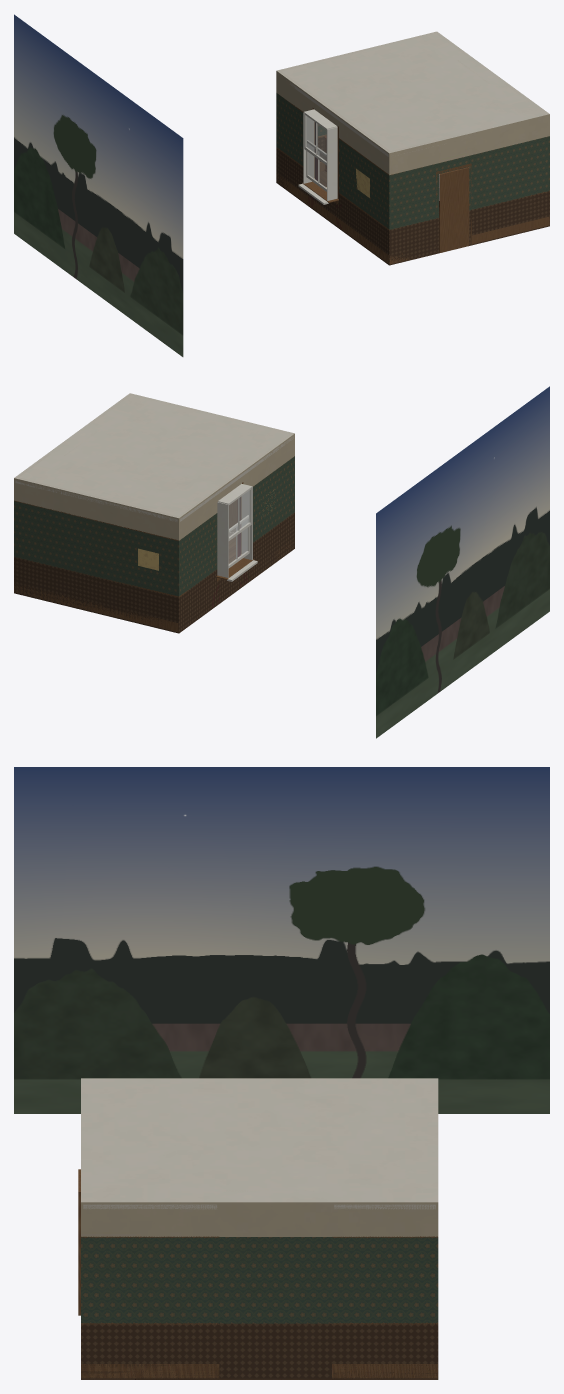
File: maybury_dining_room.gltf
The picture shows the model from 3 angles, top to bottom: view 1: azimuth 30°, elevation 25°; view 2: azimuth 150°, elevation 25°; view 3: azimuth 270°, elevation 25°; orthographic projection. The views are drawn at different scales.
Visible parts, largest first — view 1: far.garden, MESH_Ceiling, MESH_Wallpaper, MESH_Lincrusta, MESH_Frieze, MESH_GrainedDoor, MESH_SashPaint, MESH_Mouldings, MESH_Glass, MESH_Floorboards; view 2: far.garden, MESH_Ceiling, MESH_Wallpaper, MESH_Lincrusta, MESH_Frieze, MESH_SashPaint, MESH_GrainedDoor, MESH_Mouldings, MESH_Glass, MESH_Floorboards; view 3: far.garden, MESH_Ceiling, MESH_Wallpaper, MESH_Lincrusta, MESH_Frieze, MESH_GrainedDoor, MESH_Mouldings.
Part boxes in pixels (x1,y1,x2,y2): far.garden: [14, 14, 183, 356]; MESH_Ceiling: [277, 31, 549, 153]; MESH_Wallpaper: [276, 93, 549, 229]; MESH_Lincrusta: [276, 137, 549, 264]; MESH_Frieze: [276, 71, 549, 175]; MESH_GrainedDoor: [276, 99, 549, 264]; MESH_SashPaint: [298, 109, 337, 204]; MESH_Mouldings: [278, 32, 533, 156]; MESH_Glass: [306, 116, 326, 188]; MESH_Floorboards: [276, 170, 549, 265]; far.garden: [376, 386, 549, 738]; MESH_Ceiling: [14, 393, 294, 518]; MESH_Wallpaper: [14, 456, 294, 596]; MESH_Lincrusta: [14, 512, 294, 632]; MESH_Frieze: [14, 433, 294, 540]; MESH_SashPaint: [217, 484, 257, 581]; MESH_GrainedDoor: [14, 467, 292, 632]; MESH_Mouldings: [15, 394, 293, 521]; MESH_Glass: [229, 490, 249, 564]; MESH_Floorboards: [14, 532, 294, 633]; far.garden: [14, 767, 549, 1113]; MESH_Ceiling: [81, 1078, 438, 1202]; MESH_Wallpaper: [81, 1237, 438, 1323]; MESH_Lincrusta: [81, 1323, 438, 1378]; MESH_Frieze: [81, 1202, 438, 1236]; MESH_GrainedDoor: [78, 1169, 437, 1378]; MESH_Mouldings: [83, 1190, 435, 1209].
Size of the model in its own units: 11.1 by 6 by 8.4.
Materials: 37 (37 with a texture image).
